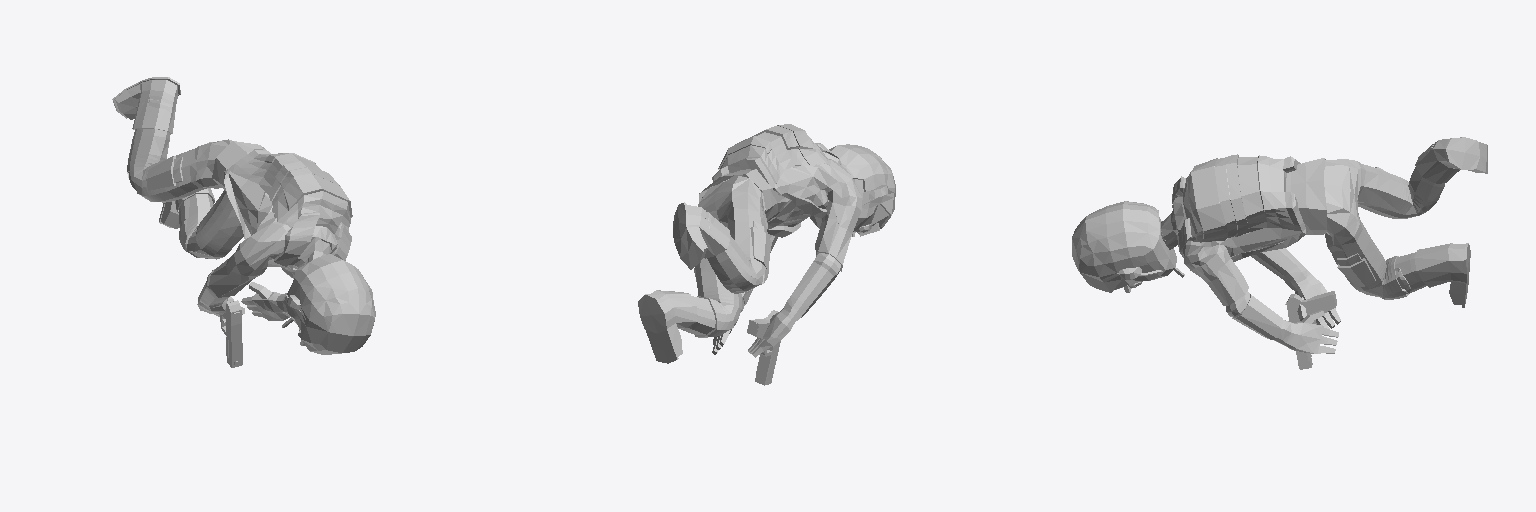
File: frame_0048.obj
3 renders of one model, left to right at view 1: azimuth 30°, elevation 25°; view 2: azimuth 150°, elevation 25°; view 3: azimuth 270°, elevation 25°, orthographic.
Visible parts, largest first — view 1: Body, Gun; view 2: Body, Gun; view 3: Body, Gun.
Boxes of the visible parts, box(x1,y1,x2,y2) form: Body: box(112, 77, 375, 354); Gun: box(220, 296, 242, 367); Body: box(638, 124, 895, 363); Gun: box(747, 310, 780, 385); Body: box(1072, 137, 1487, 353); Gun: box(1285, 291, 1336, 369).
Size of the model in its own units: 1.25 by 2.3 by 3.72.